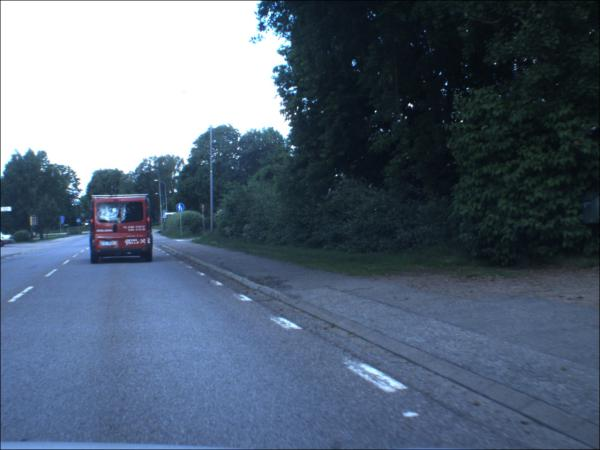PEDESTRIAN_CROSSING: (164, 215, 169, 220), (78, 220, 83, 224)
